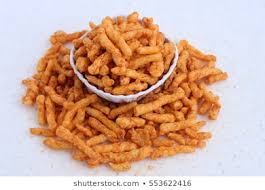kurkure: (24, 13, 227, 172)
